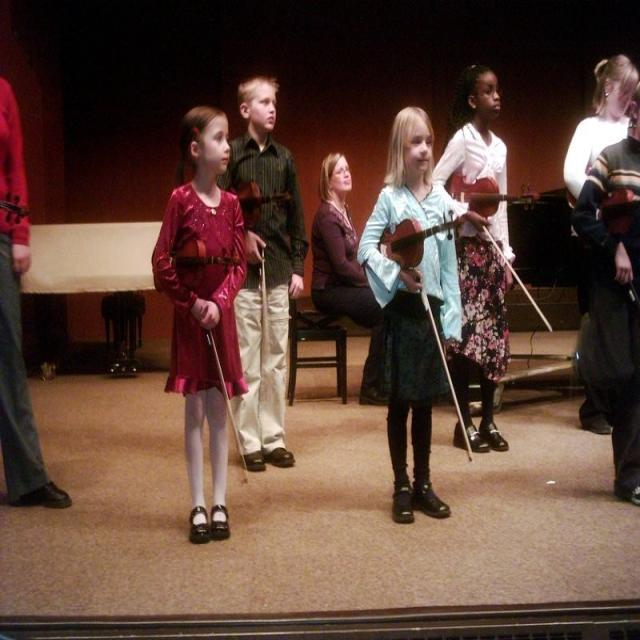violin: (376, 204, 466, 270), (443, 170, 542, 220), (155, 236, 242, 292), (577, 185, 640, 238), (228, 181, 297, 226)
